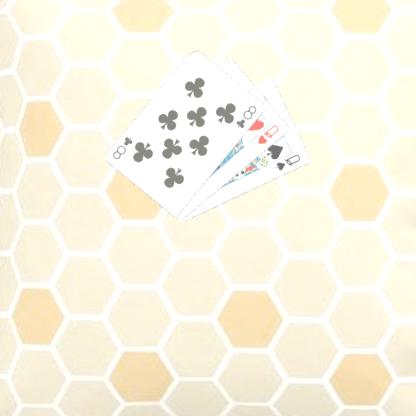8C: (111, 133, 137, 161), (236, 102, 260, 130)
QH: (257, 122, 282, 146)
QS: (275, 152, 304, 172)
